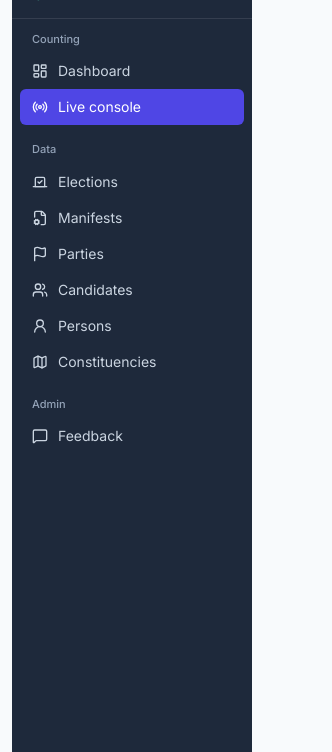
it: Sidebar › a sidebar link navigates without asking when nothing is unsaved
Step 1. Click the link "Elections" → (75, 181), box [32, 173, 118, 190]
(page scrolled)
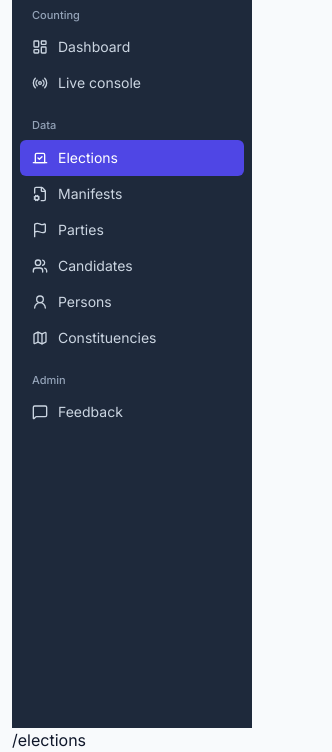
Expected: the text with test id "where" reads "/elections", [12, 730, 86, 750]
